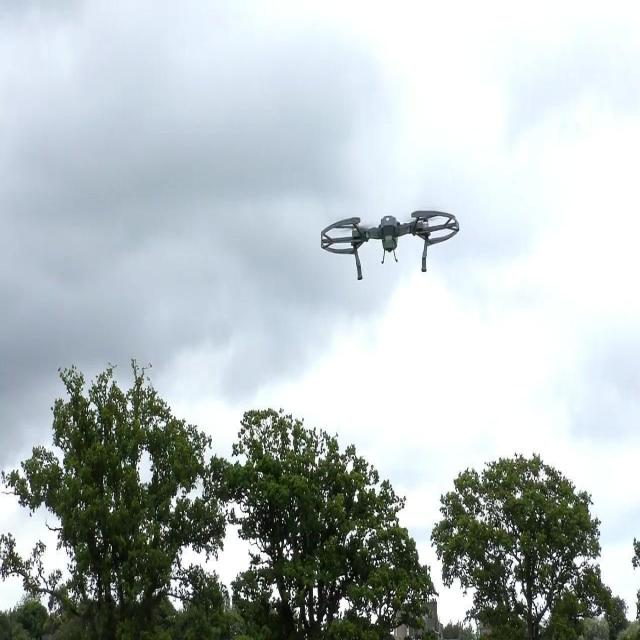drone: (319, 204, 461, 284)
